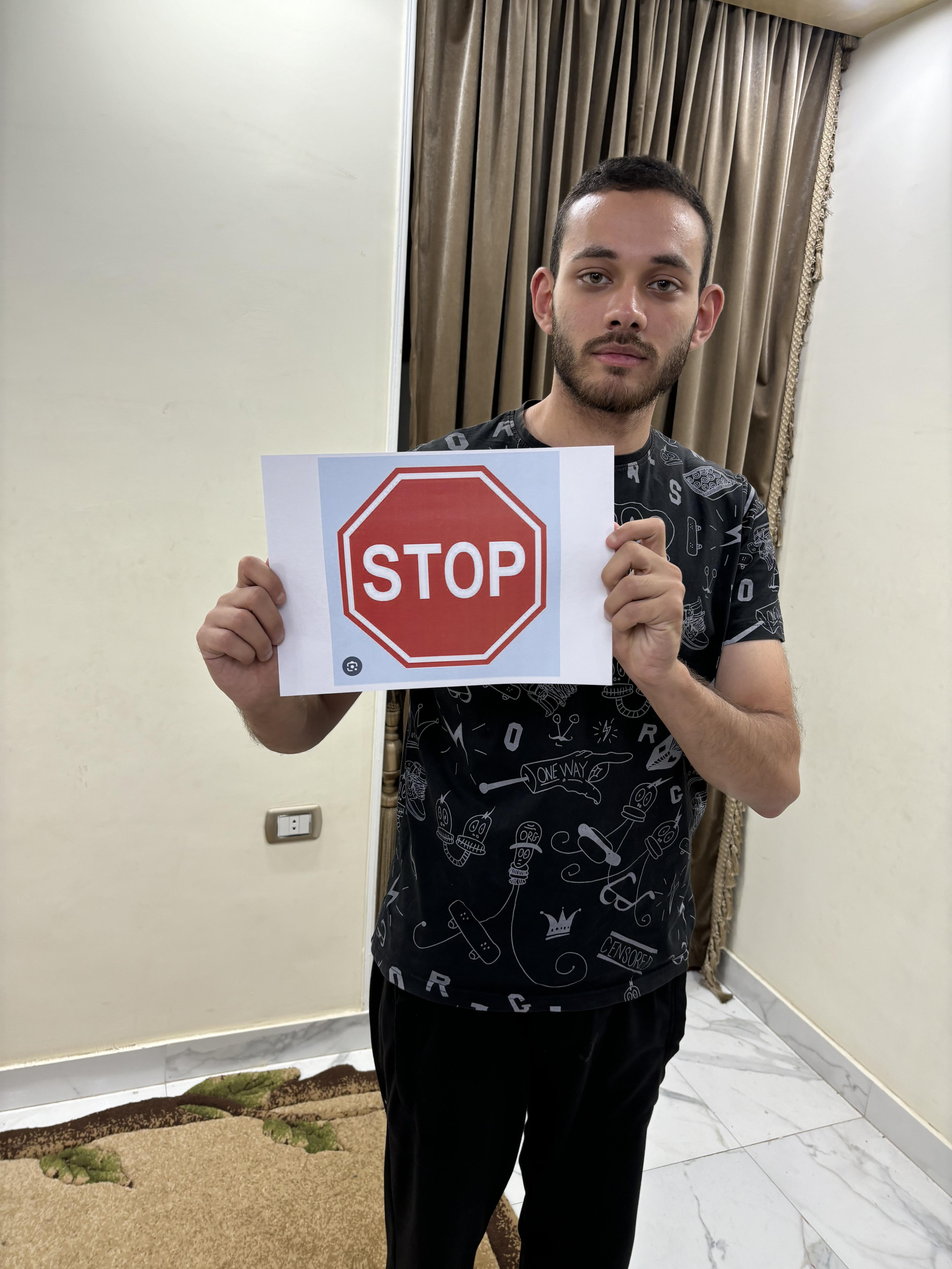Stop: (330, 456, 565, 684)
